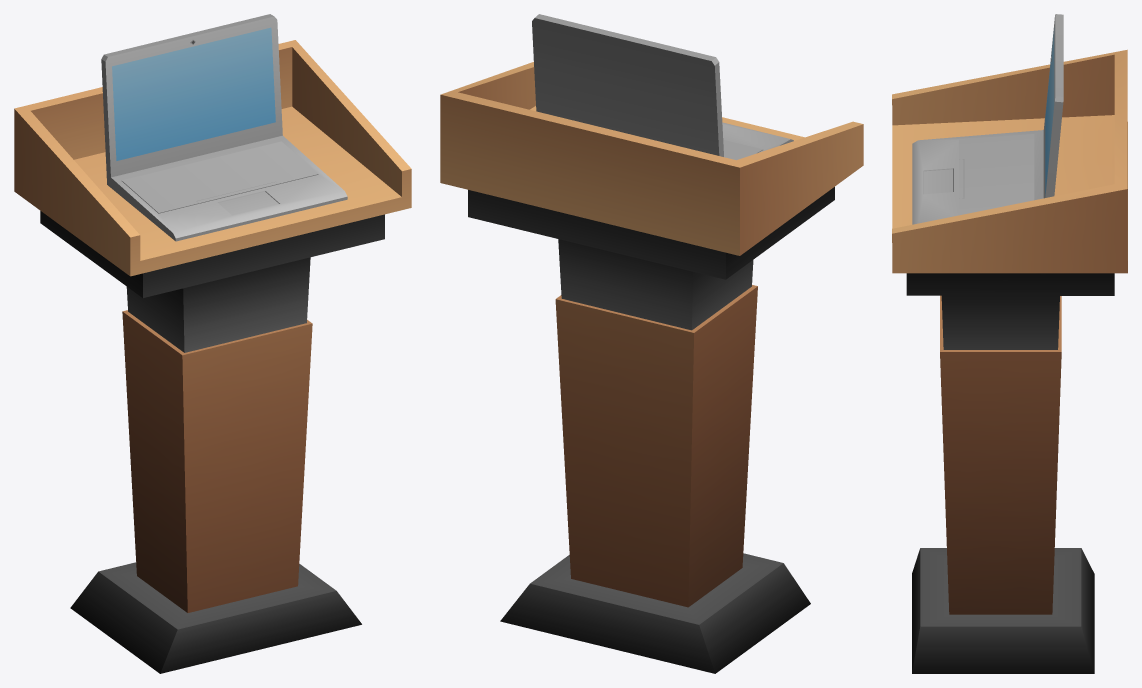
Rendered from CR_Lecturedesk_001.FBX.
3 views of the same model, side by side, from view 1: azimuth 30°, elevation 25°; view 2: azimuth 150°, elevation 25°; view 3: azimuth 270°, elevation 25° (orthographic). The views are drawn at different scales.
Parts seen in each view (by area): view 1: CR_Lecturedesk_001; view 2: CR_Lecturedesk_001; view 3: CR_Lecturedesk_001.
Boxes of the visible parts, bbox=[...] form: CR_Lecturedesk_001: bbox=[14, 14, 411, 673]; CR_Lecturedesk_001: bbox=[440, 14, 863, 673]; CR_Lecturedesk_001: bbox=[892, 14, 1127, 673].
Size of the model in its own units: 17.79 by 33.88 by 12.72.
